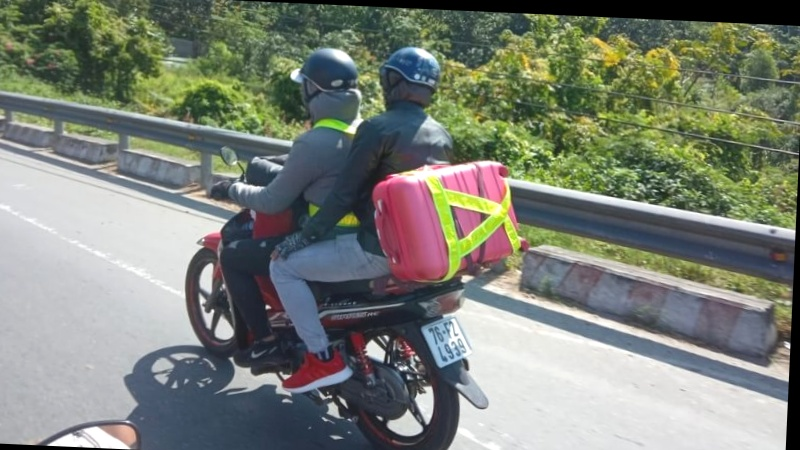Bien-so: (446, 306, 496, 362)
